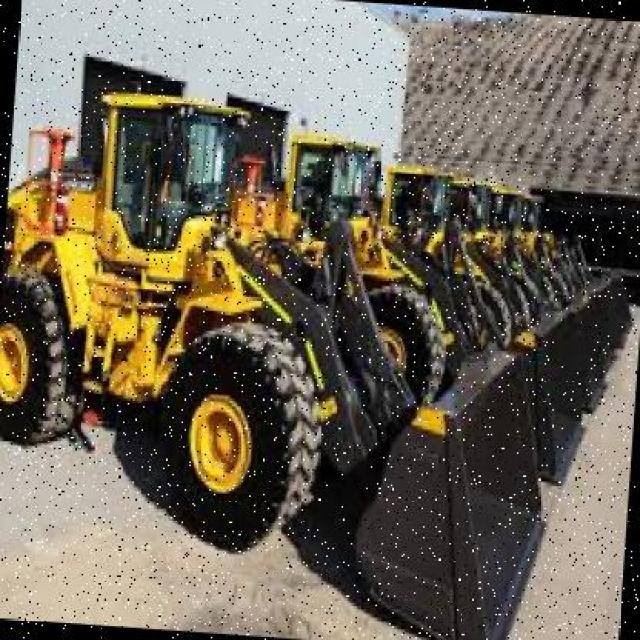buldozerpayloadergrader: (0, 69, 582, 640)
